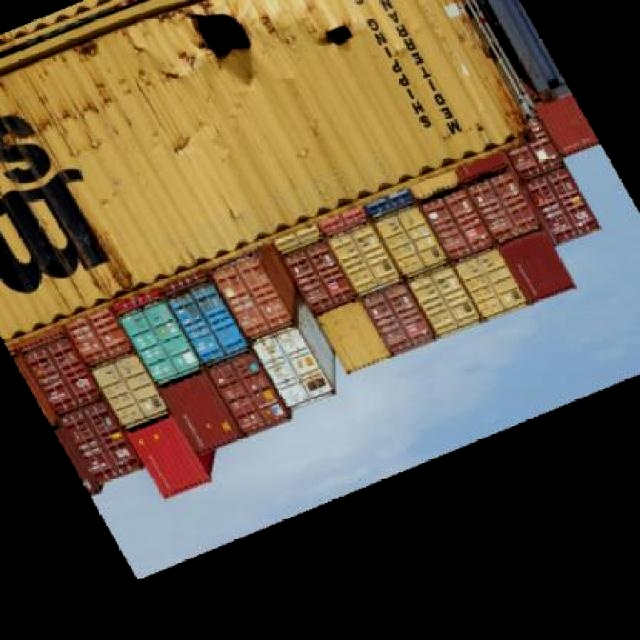Hole: (168, 3, 277, 89), (312, 13, 368, 53)
Rusty: (2, 75, 158, 158)
